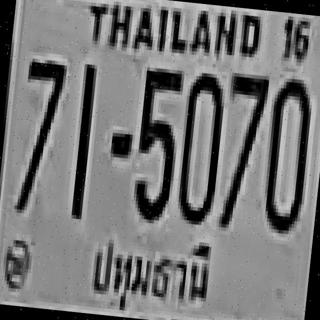N00: (258, 74, 314, 232), (174, 70, 227, 224)
N05: (129, 65, 182, 220), (131, 63, 182, 197)
N07: (12, 56, 65, 204), (218, 71, 270, 215), (16, 56, 65, 173), (222, 69, 270, 176), (18, 56, 65, 156), (223, 71, 270, 164)
P38: (78, 225, 222, 320)
